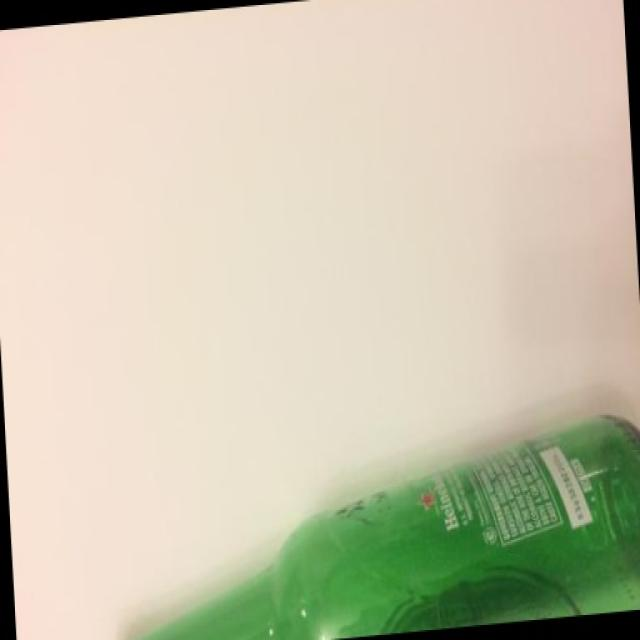vidrio: (94, 400, 640, 630)
